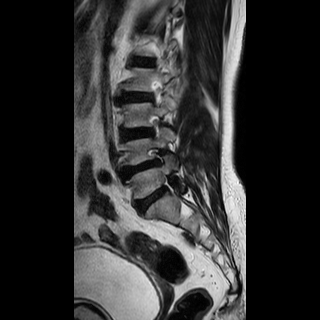RFS1: (145, 110, 171, 141)
RFS3: (144, 145, 172, 173)
